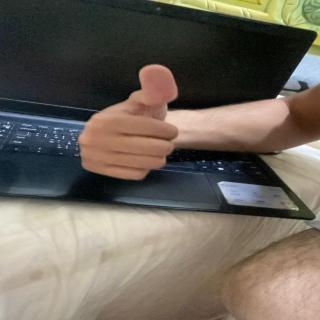ALIF: (73, 59, 188, 194)
